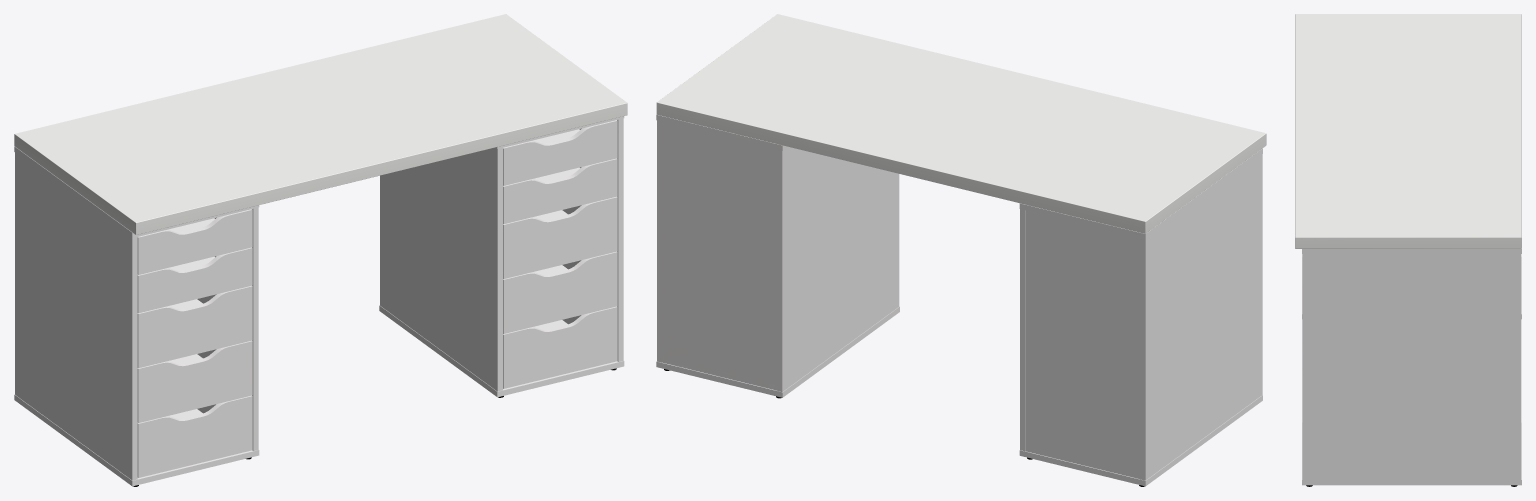
3 renders of one model, left to right at view 1: azimuth 30°, elevation 25°; view 2: azimuth 150°, elevation 25°; view 3: azimuth 270°, elevation 25°, orthographic. The views are drawn at different scales.
Size of the model in its own units: 1.4 by 0.7341 by 0.6.
1 material, 1 textured.
